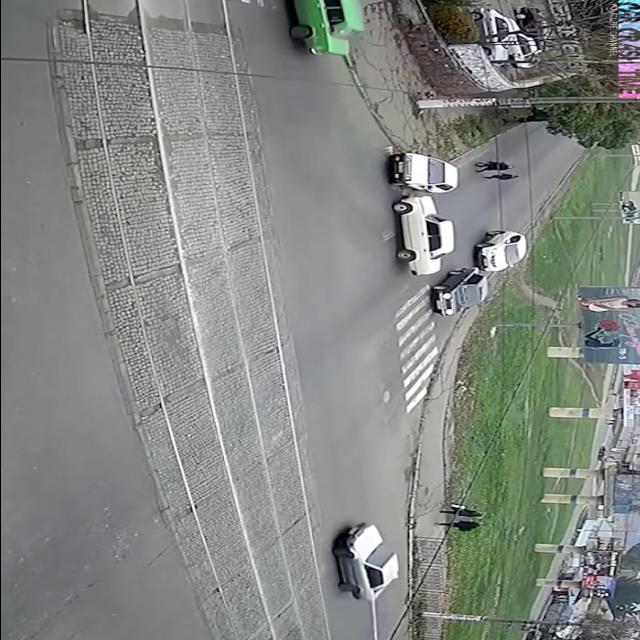accident: (377, 145, 463, 281)
non_accident: (424, 228, 533, 319)
